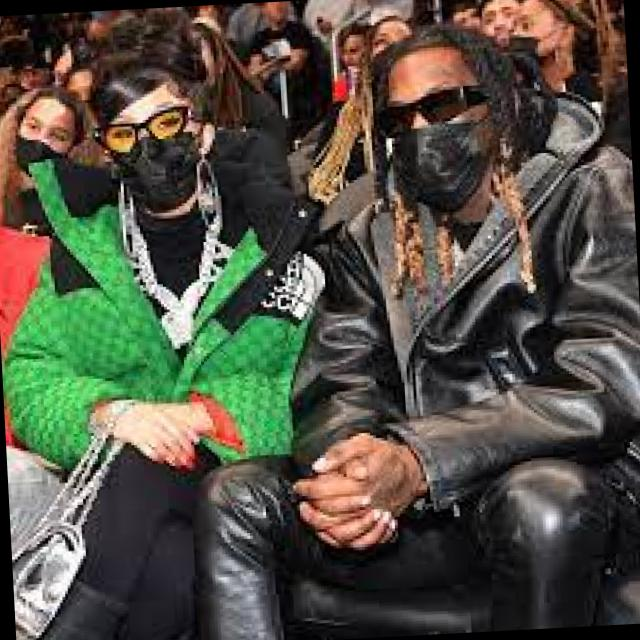Jacket: (291, 134, 640, 596), (0, 150, 340, 555)
